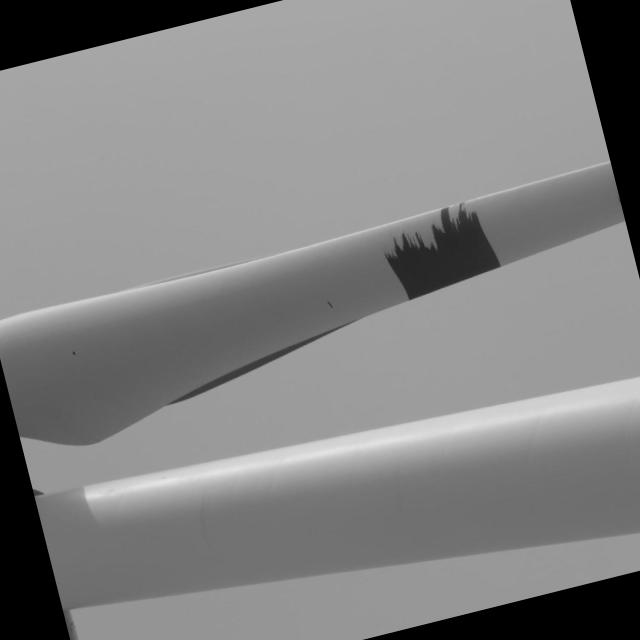surface_peeling: (374, 197, 506, 306)
